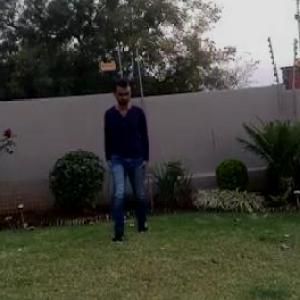follow: (92, 72, 149, 250)
